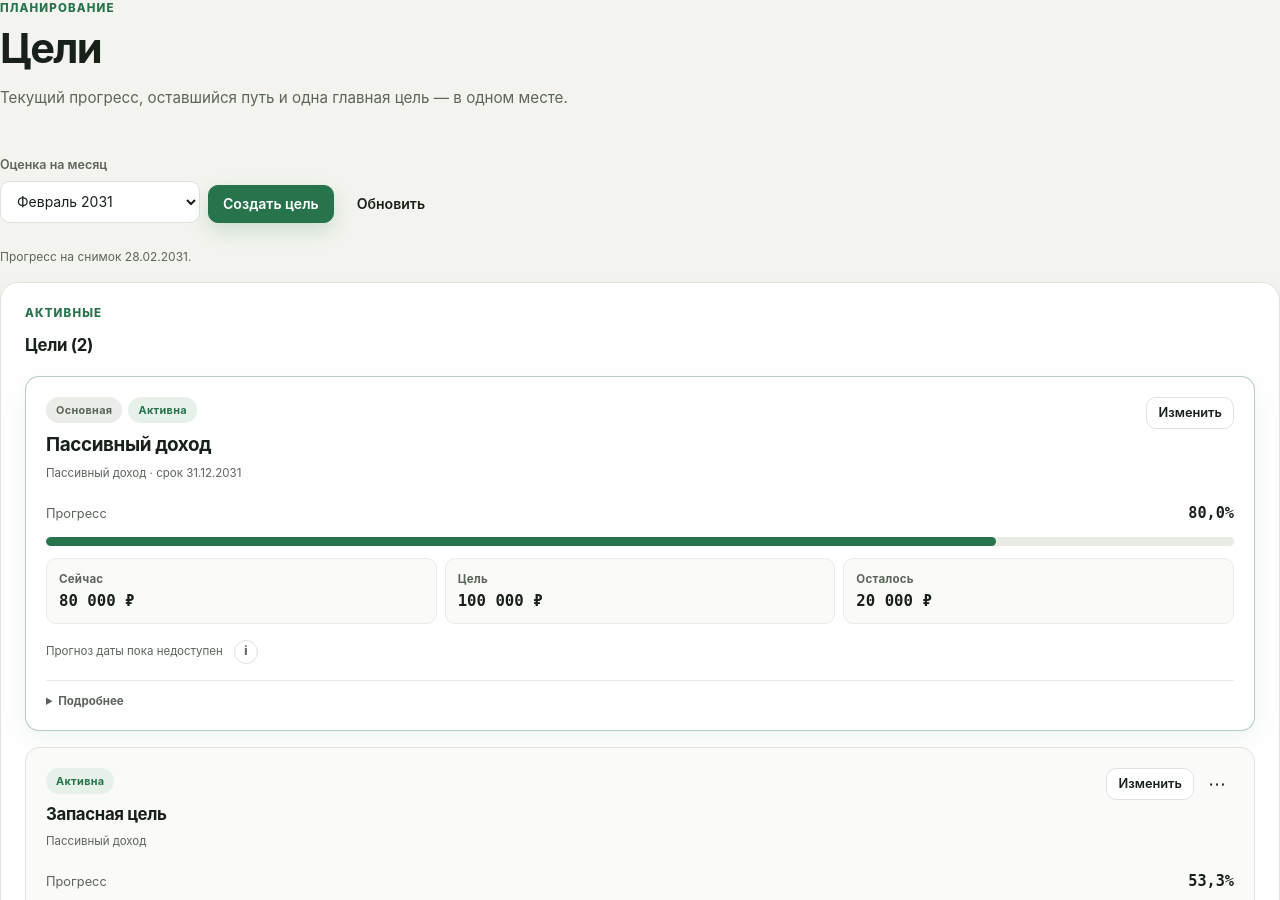
Test case: GoalsWorkspace R03-09 cards › puts the main active goal first and keeps inactive goals collapsed
Check: the heading "Пассивный доход" is shown, box [46,433,211,456]
Check: the text "Прогресс на снимок 28.02.2031." is shown, box [0,249,191,264]
Click the button named "Почему нет прогноза даты для цели". click: (246, 652)
box: [234,640,258,664]
(page scrolled)
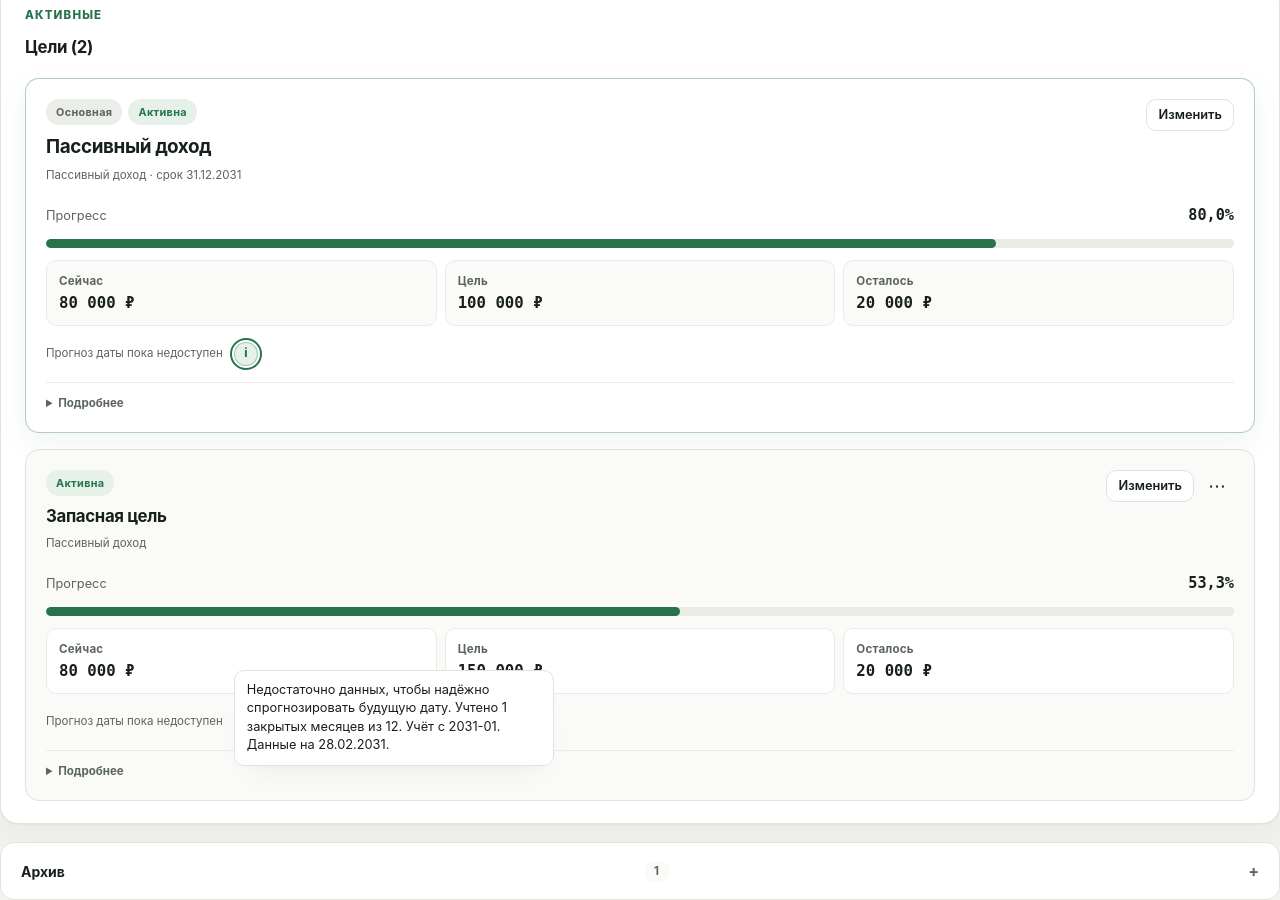
Check: the tooltip "2031-01" is shown, box [247,682,507,752]
Click the heading "Архив 1". click: (43, 871)
box: [21,860,670,882]
(page scrolled)
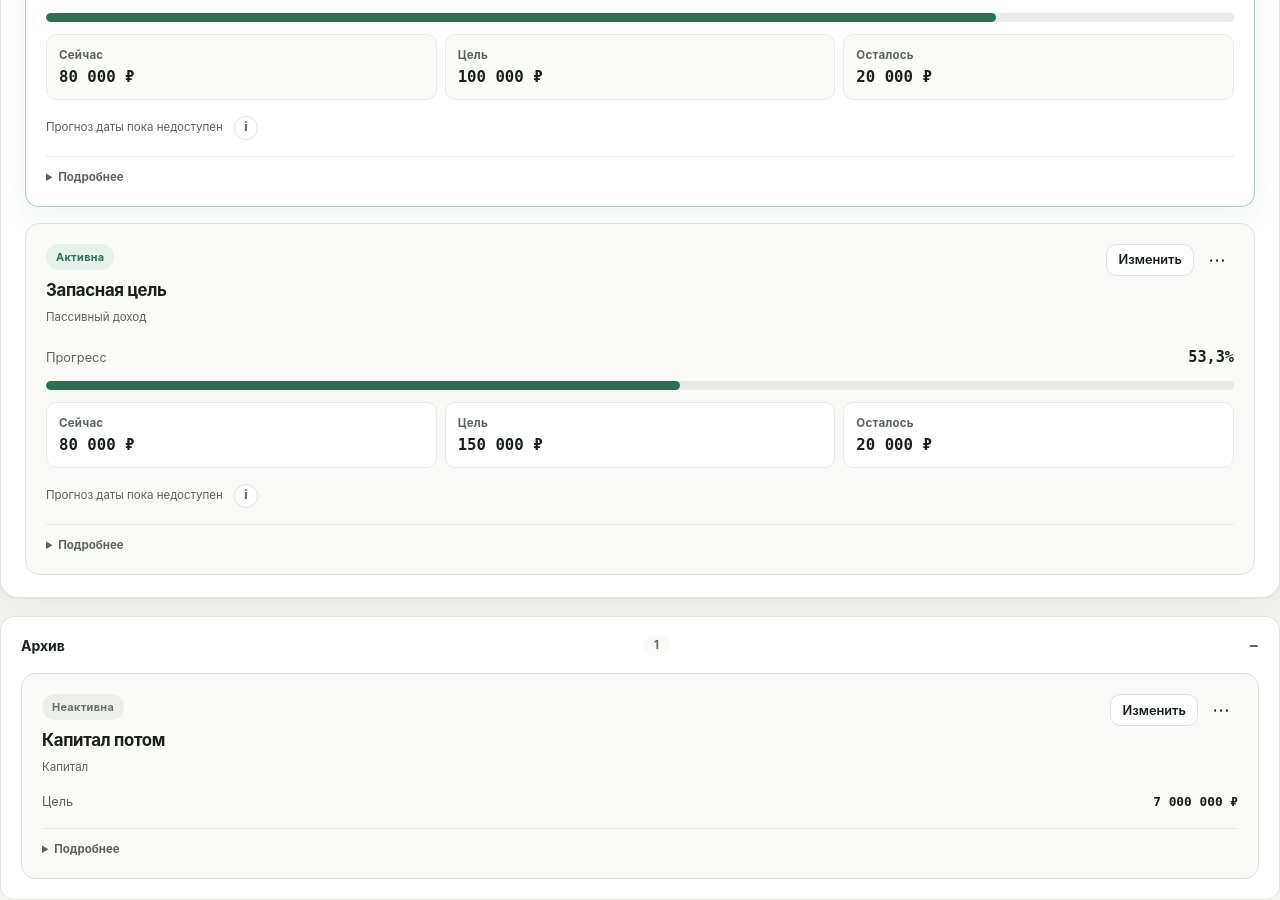
Check: the heading "Капитал потом" is shown, box [42,728,165,753]
